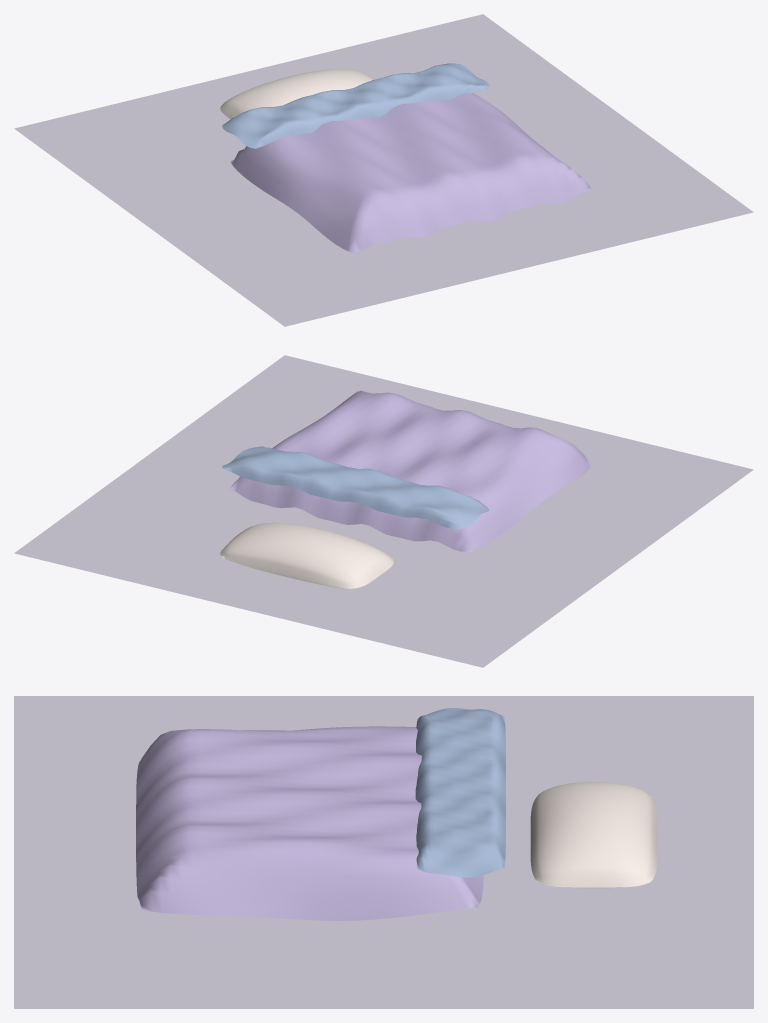
File: bedding.glb
The picture shows the model from 3 angles, top to bottom: view 1: azimuth 30°, elevation 25°; view 2: azimuth 150°, elevation 25°; view 3: azimuth 270°, elevation 25°; orthographic projection. The views are drawn at different scales.
Visible parts, largest first — view 1: background, a_side, b_side, pillowcase; view 2: background, a_side, b_side, pillowcase; view 3: background, a_side, b_side, pillowcase.
Boxes of the visible parts, x1,y1,x2,y2 form: background: [14, 14, 753, 326]; a_side: [230, 93, 591, 252]; b_side: [222, 63, 489, 148]; pillowcase: [220, 69, 373, 119]; background: [14, 355, 753, 667]; a_side: [230, 390, 591, 552]; b_side: [222, 446, 489, 529]; pillowcase: [220, 522, 393, 588]; background: [14, 696, 753, 1008]; a_side: [136, 726, 483, 920]; b_side: [415, 708, 505, 877]; pillowcase: [530, 782, 657, 887].
Bounding box in the file's own units: 5 × 0.5658 × 5.
